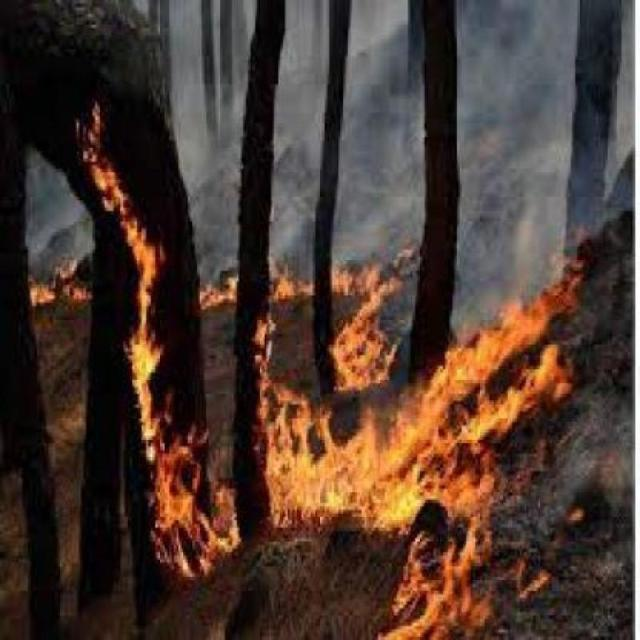Fire: (22, 93, 489, 640)
Smoke: (340, 25, 640, 260)
